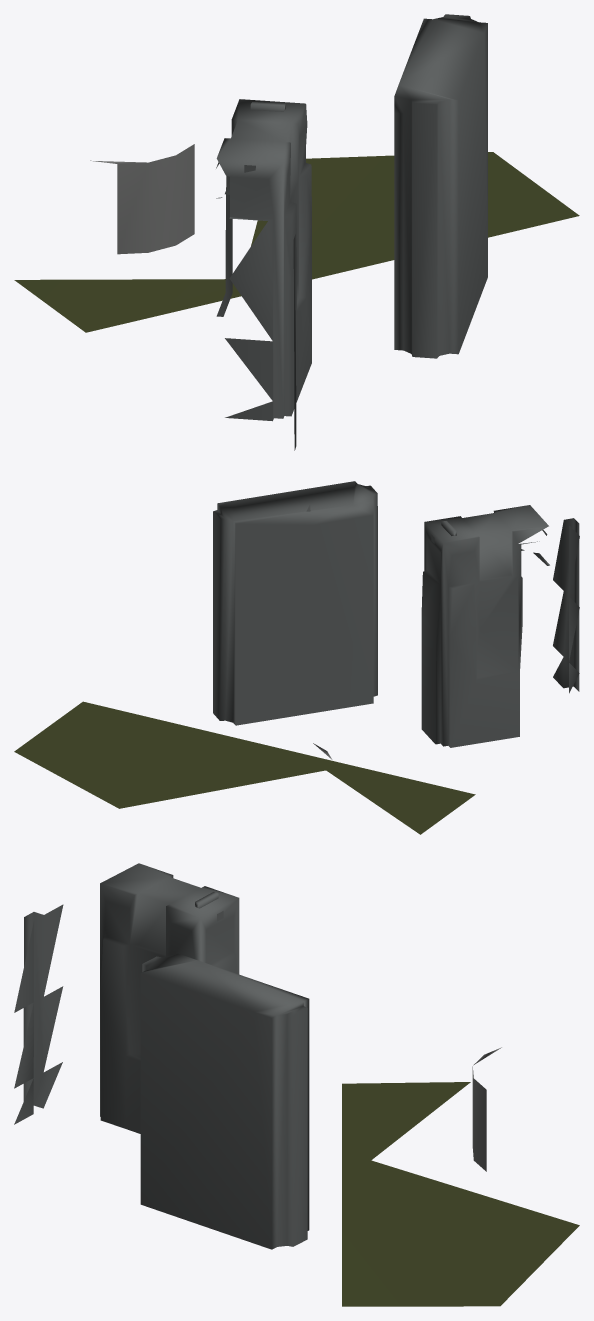
The picture shows the model from 3 angles, top to bottom: view 1: azimuth 30°, elevation 25°; view 2: azimuth 150°, elevation 25°; view 3: azimuth 270°, elevation 25°; orthographic projection. The views are drawn at different scales.
Visible parts, largest first — view 1: merged__lod1; view 2: merged__lod1; view 3: merged__lod1.
Part boxes in pixels (left/top/right/bottom): merged__lod1: left=14, top=14, right=579, bottom=450; merged__lod1: left=14, top=481, right=579, bottom=834; merged__lod1: left=14, top=863, right=579, bottom=1306.
Size of the model in its own units: 225 by 115 by 245.
